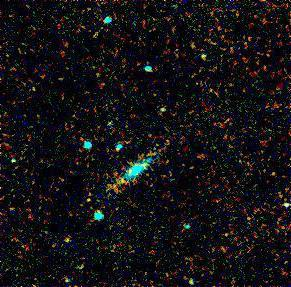star: (53, 225, 83, 255)
